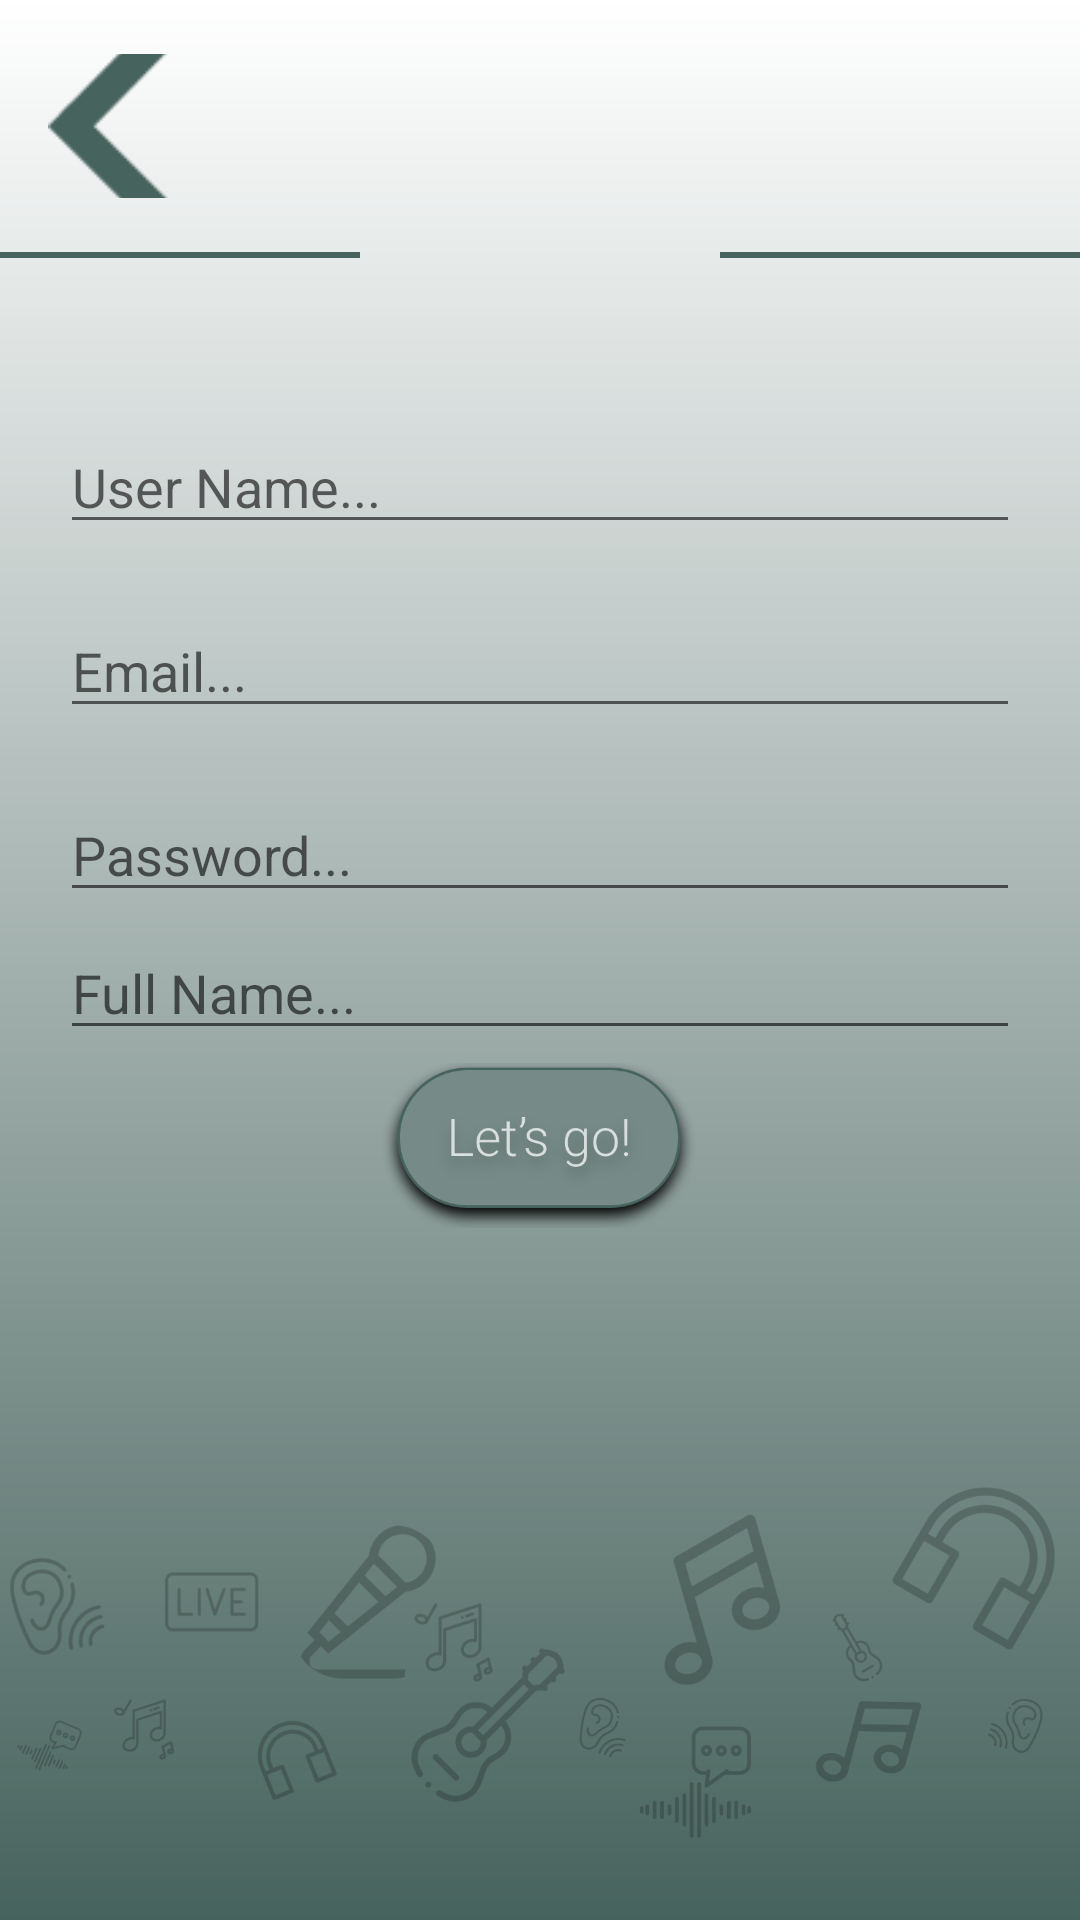

Screen size 1080px×1920px. Icon name, then its center in pixels as [x,y]:
previous: [108,126]
